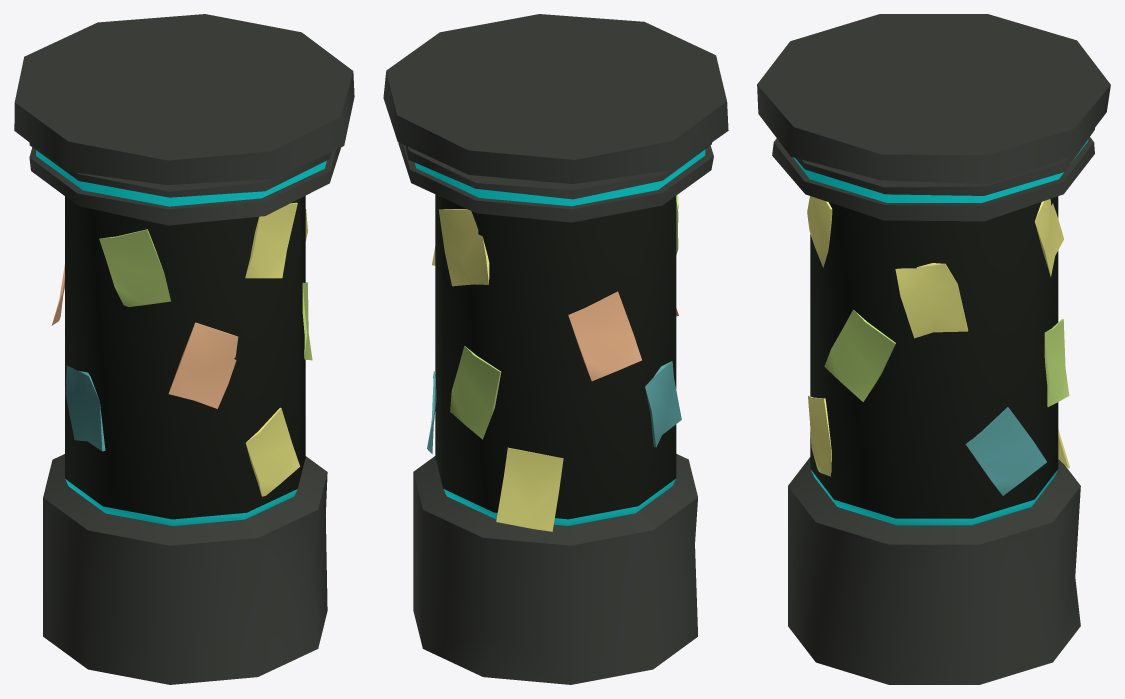
Rendered from Bulletin_Post.glb.
3 views of the same model, side by side, from view 1: azimuth 30°, elevation 25°; view 2: azimuth 150°, elevation 25°; view 3: azimuth 270°, elevation 25° (orthographic).
Parts seen in each view (by area): view 1: BulletinBoard; view 2: BulletinBoard; view 3: BulletinBoard.
Part boxes in pixels (<box>): BulletinBoard: <box>14,14,354,684</box>; BulletinBoard: <box>383,14,728,684</box>; BulletinBoard: <box>757,14,1110,684</box>.
Size of what is drawn, in the model's own units: 1.93 by 3.41 by 2.02.
2 materials, 2 textured.
